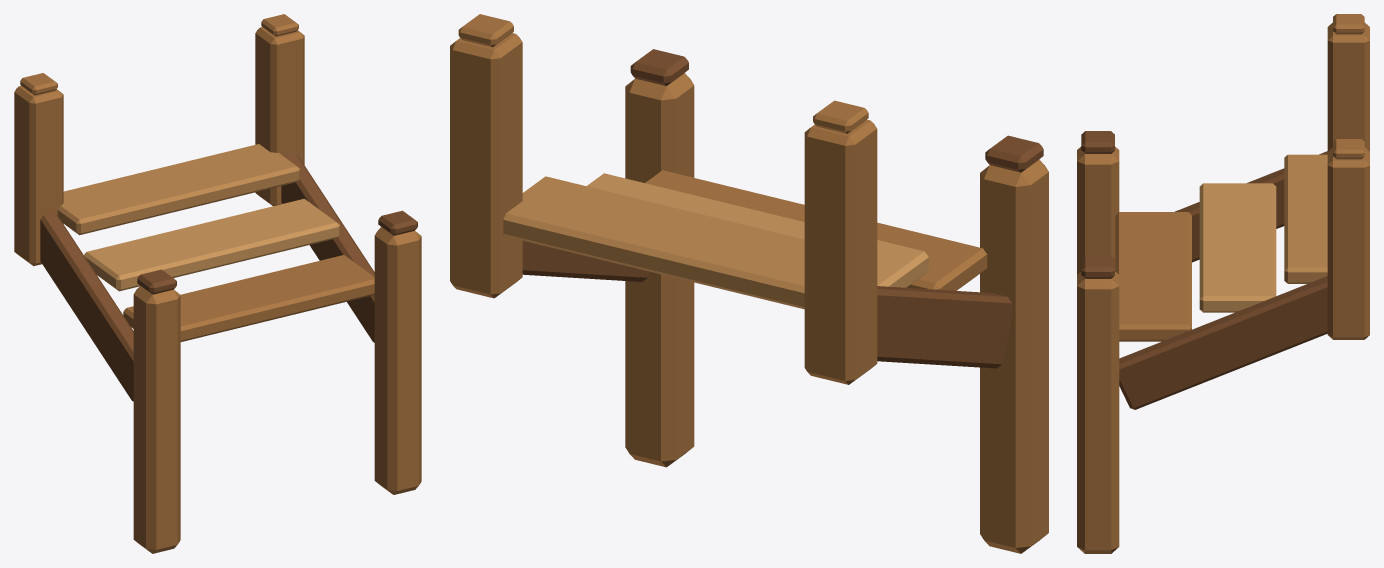
Rendered from dock_stairs.glb.
3 renders of one model, left to right at view 1: azimuth 30°, elevation 25°; view 2: azimuth 150°, elevation 25°; view 3: azimuth 270°, elevation 25°, orthographic. The views are drawn at different scales.
Parts seen in each view (by area): view 1: dock_stairs; view 2: dock_stairs; view 3: dock_stairs.
Part boxes in pixels (x1=…): dock_stairs: x1=14, y1=14, x2=421, y2=553; dock_stairs: x1=450, y1=14, x2=1048, y2=553; dock_stairs: x1=1077, y1=14, x2=1369, y2=553.
Bounding box in the file's own units: 1.28 × 1.69 × 1.11.
